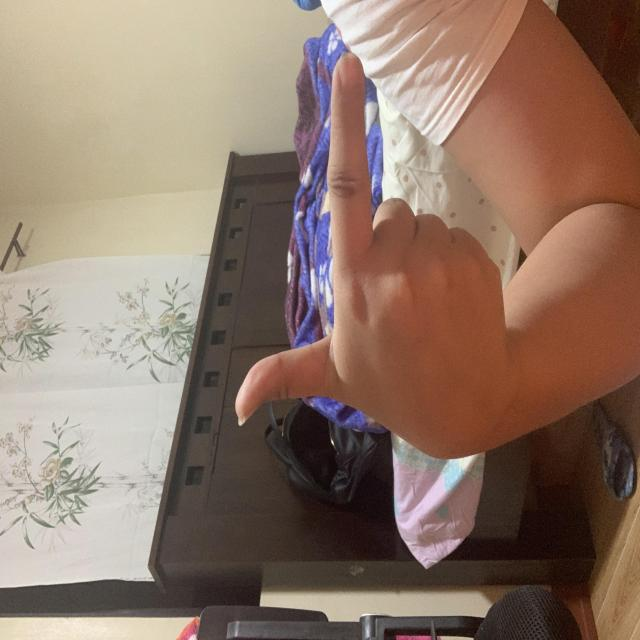G: (51, 234, 462, 505)
